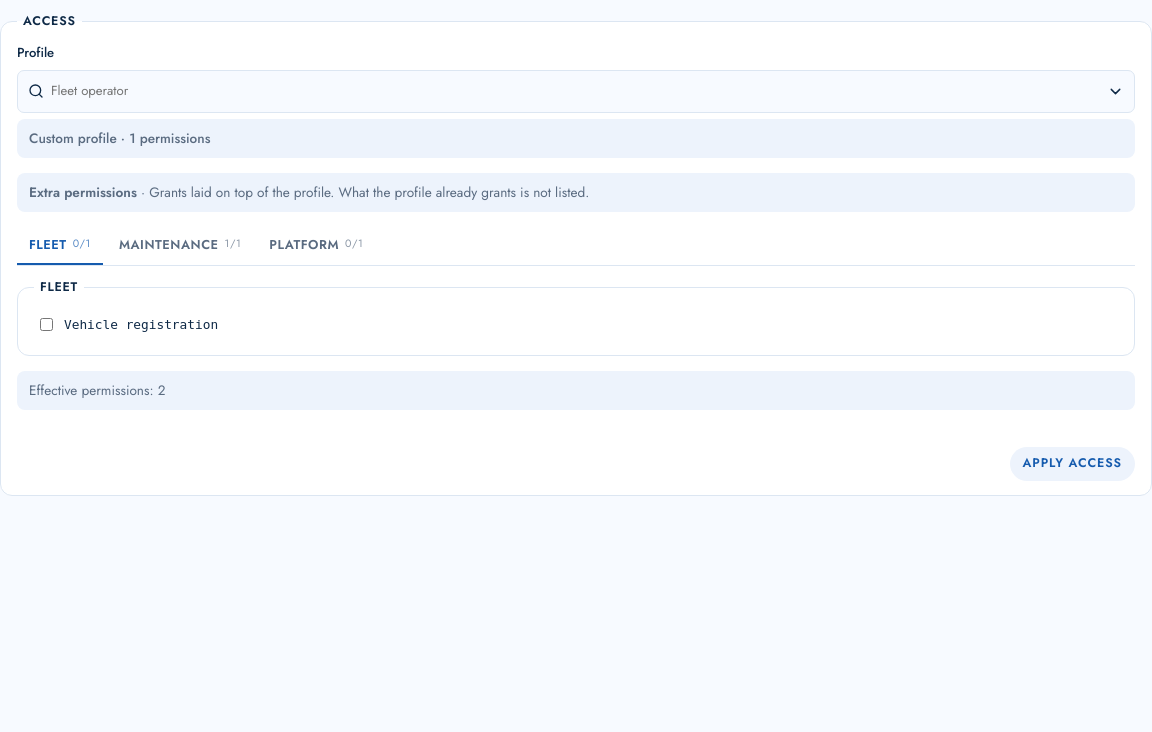
UserProfilePicker › shows the held profile and extras, and applies a change through the assign endpoint
Expected: the field with placeholder "Fleet operator" is shown, [51,76,1100,106]
Click the tab "Maintenance 1/1" at (180, 246), box [107,227,253,265]
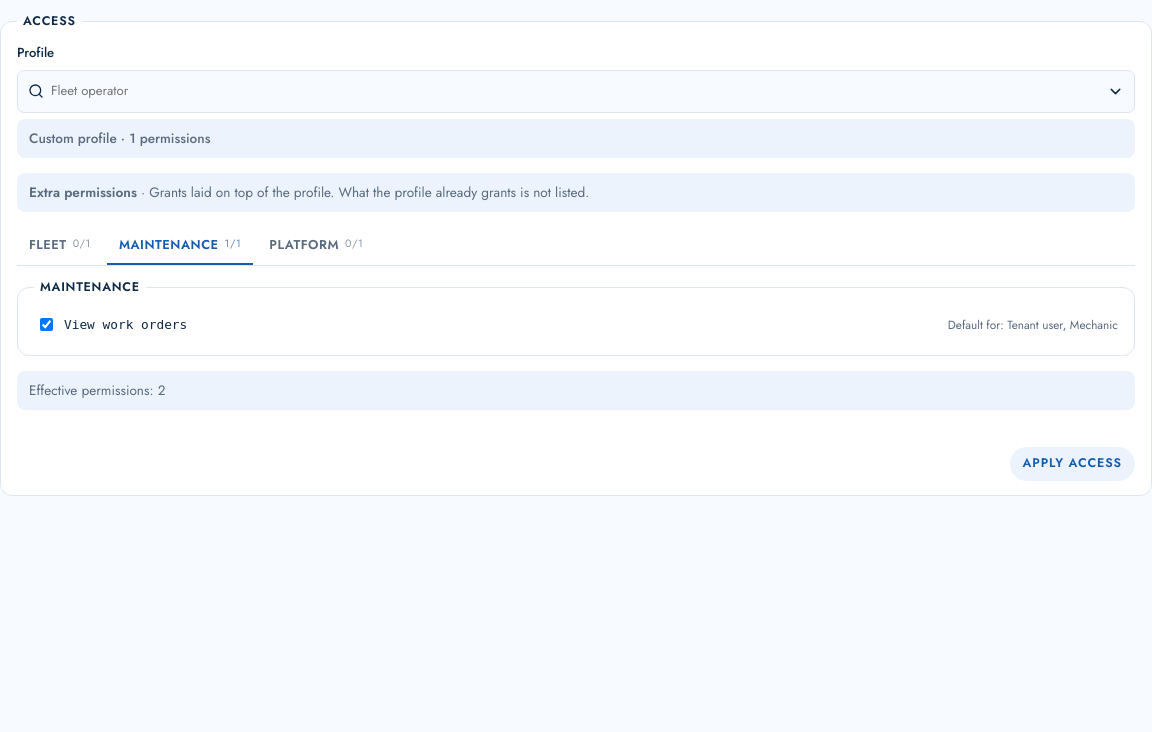
Expected: the checkbox labelled "View work orders" is checked, [38,318,55,331]
Click the tab "Fleet 0/1" at (60, 246), box [17,227,103,265]
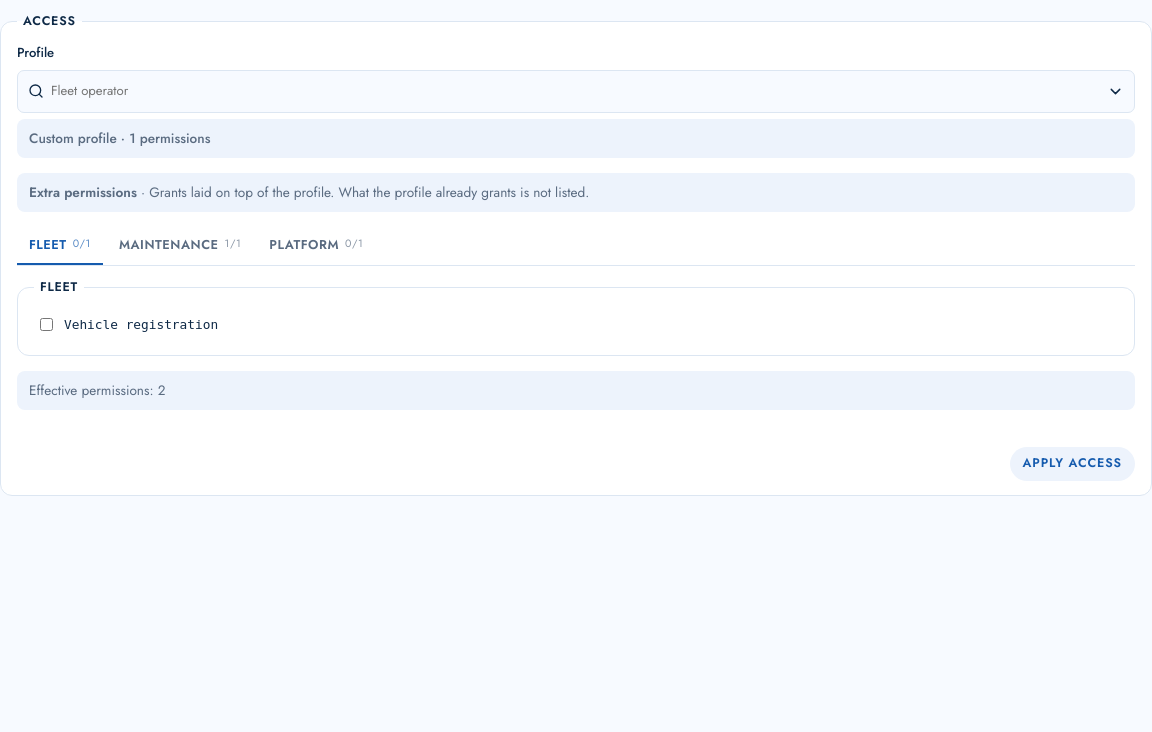
Click the checkbox labelled "Vehicle registration" at (46, 325), box [38,318,55,331]
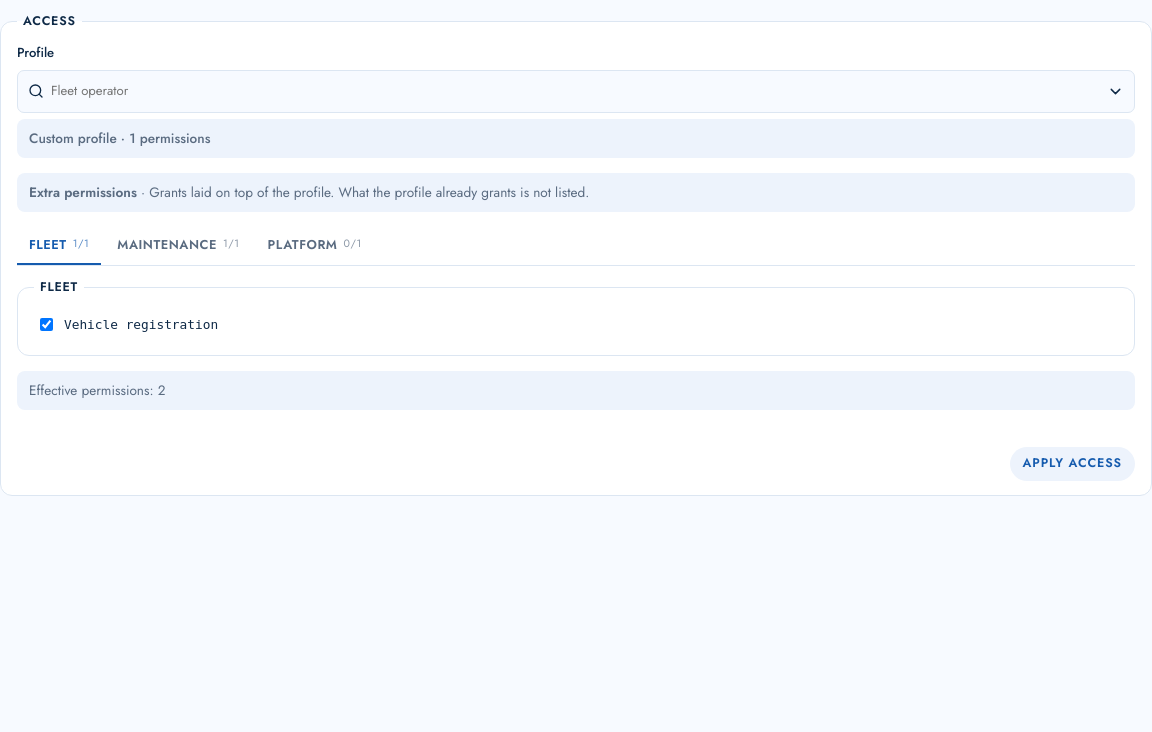
Click the button "Apply access" at (1072, 464), box [1010,447,1135,481]
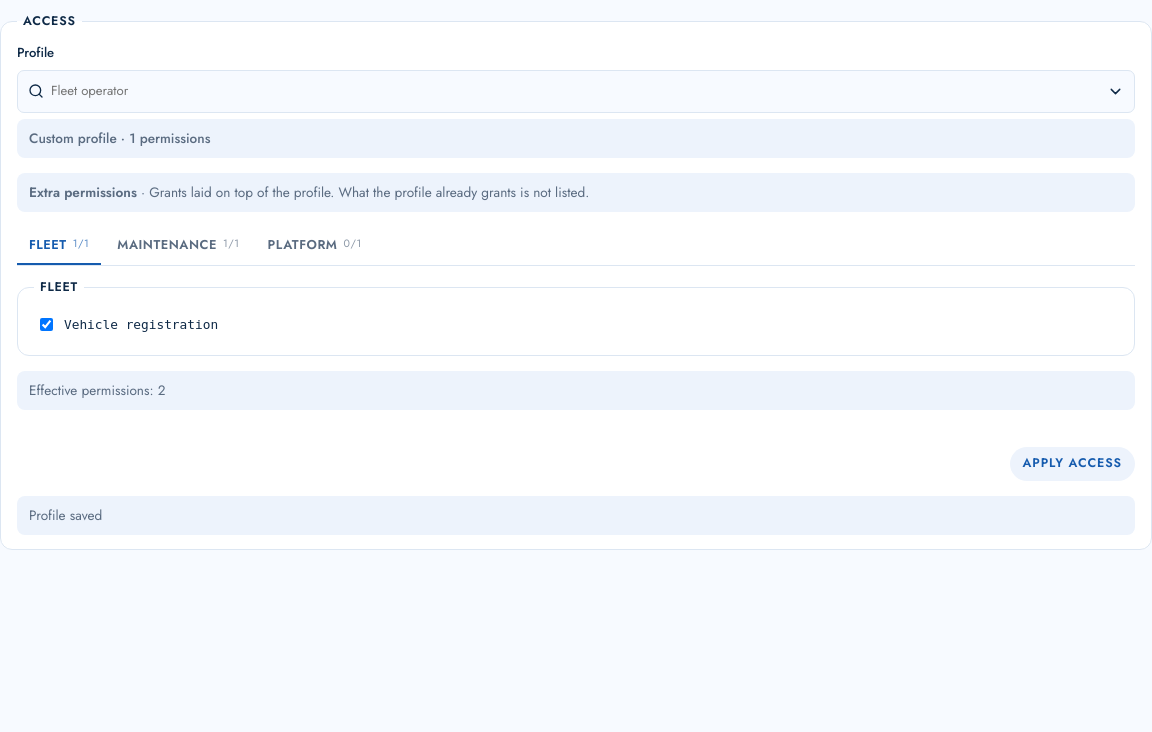
Expected: the text "Profile saved" is shown, [17,496,1135,535]
